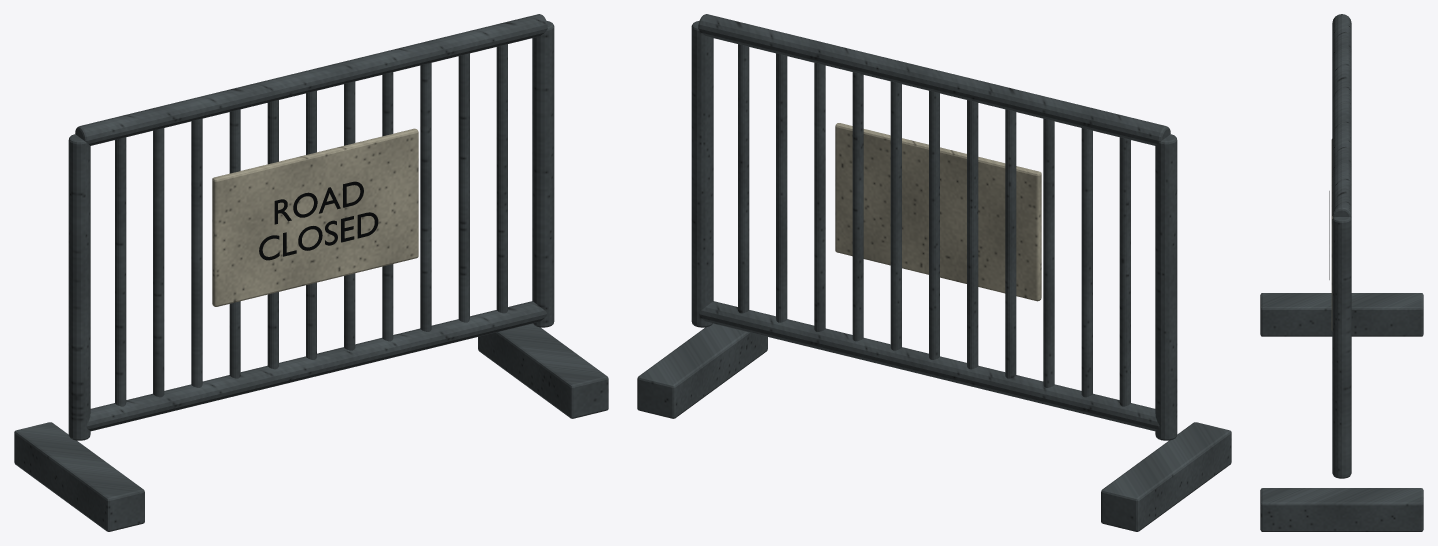
File: PROP-31AAA08519C0_lod0.glb
3 views of the same model, side by side, from view 1: azimuth 30°, elevation 25°; view 2: azimuth 150°, elevation 25°; view 3: azimuth 270°, elevation 25° (orthographic). The views are drawn at different scales.
Visible parts, largest first — view 1: crowd_barrier_pickets, road_closed_plate, crowd_barrier_rails, crowd_barrier_feet, crowd_barrier_sides, sign_letters_ROADCLOSED; view 2: crowd_barrier_pickets, crowd_barrier_rails, road_closed_plate, crowd_barrier_feet, crowd_barrier_sides; view 3: crowd_barrier_feet, crowd_barrier_sides, crowd_barrier_rails, road_closed_plate.
Boxes of the visible parts, left/top/right/bottom form: crowd_barrier_pickets: left=115, top=44, right=507, bottom=406; road_closed_plate: left=212, top=128, right=418, bottom=306; crowd_barrier_rails: left=75, top=14, right=547, bottom=431; crowd_barrier_feet: left=14, top=323, right=608, bottom=531; crowd_barrier_sides: left=68, top=21, right=554, bottom=440; sign_letters_ROADCLOSED: left=259, top=181, right=378, bottom=260; crowd_barrier_pickets: left=738, top=44, right=1130, bottom=406; crowd_barrier_rails: left=698, top=14, right=1170, bottom=431; road_closed_plate: left=835, top=123, right=1041, bottom=301; crowd_barrier_feet: left=637, top=323, right=1231, bottom=531; crowd_barrier_sides: left=691, top=21, right=1177, bottom=440; crowd_barrier_feet: left=1260, top=293, right=1423, bottom=531; crowd_barrier_sides: left=1332, top=216, right=1351, bottom=478; crowd_barrier_rails: left=1332, top=14, right=1351, bottom=217; road_closed_plate: left=1331, top=139, right=1332, bottom=330.
Bounding box in the file's own units: 1.84 × 1.29 × 0.6.
3 materials, 3 textured.
